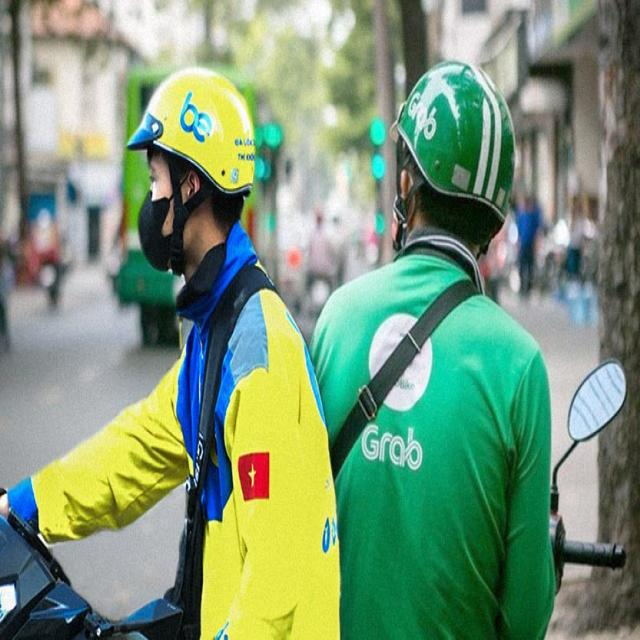1-2-helmet: (388, 56, 520, 231), (124, 66, 256, 198)
